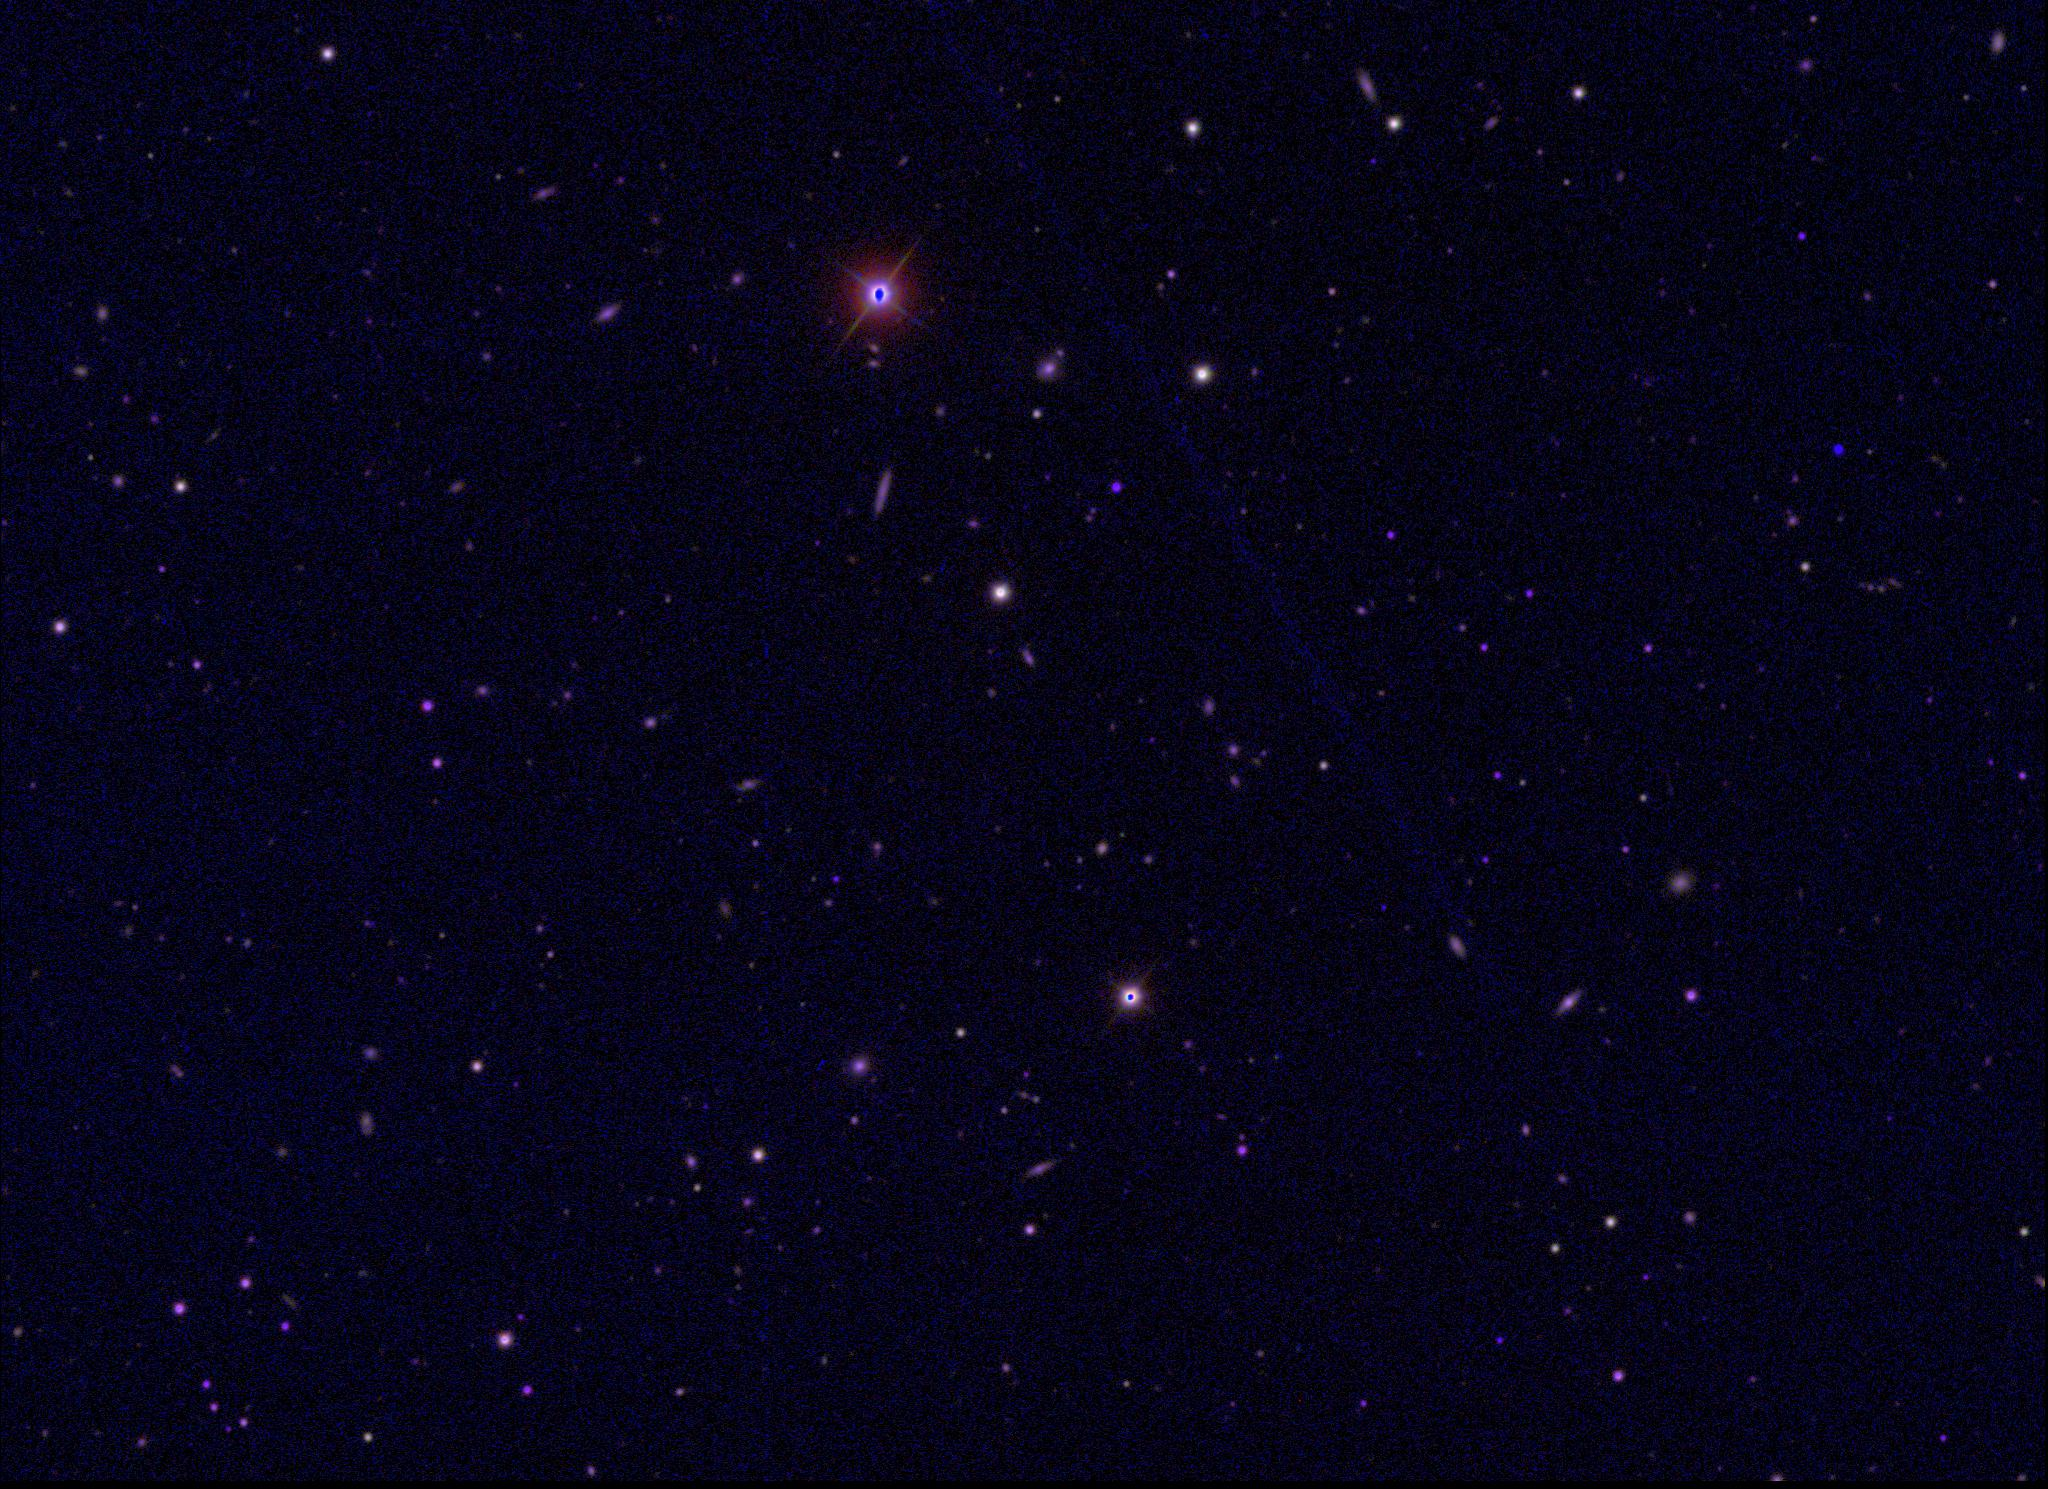L: (1832, 442, 1846, 457)
